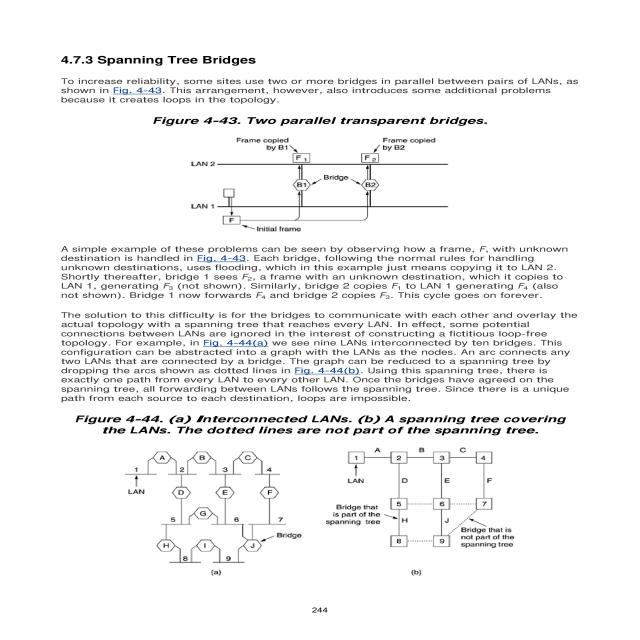diagram: (59, 413, 632, 590), (132, 110, 516, 240)
